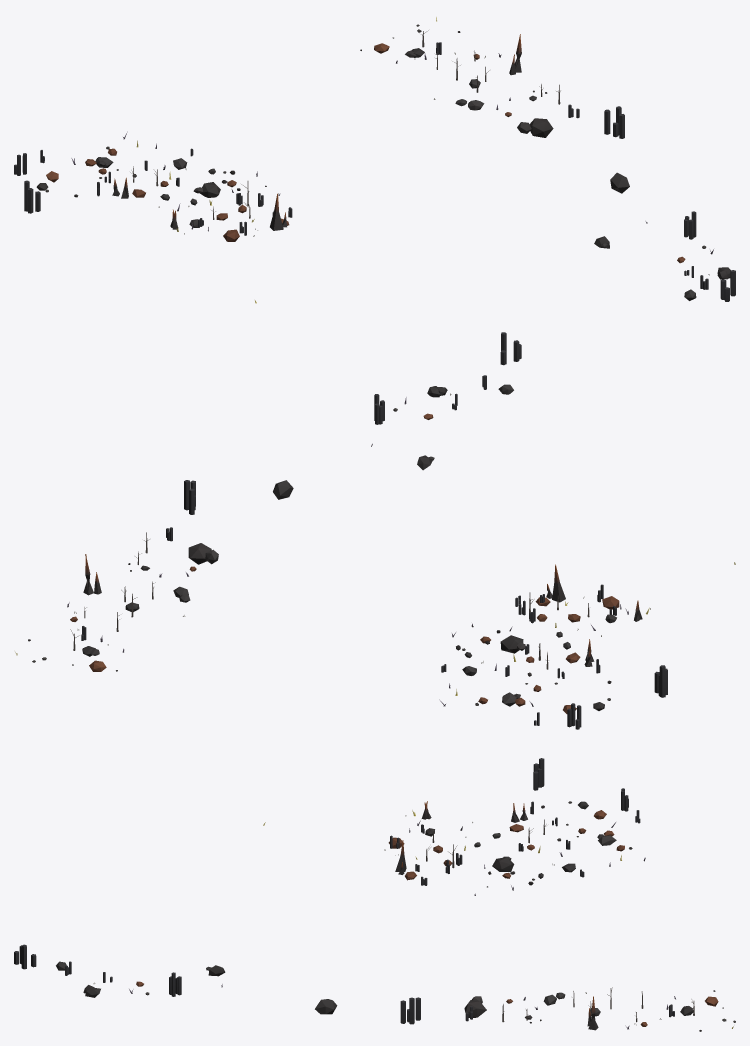
The model's file is ash_land_scatter_c20_30_lod1.glb.
3 renders of one model, top to bottom at view 1: azimuth 30°, elevation 25°; view 2: azimuth 150°, elevation 25°; view 3: azimuth 270°, elevation 25°, orthographic. The views are drawn at different scales.
Parts seen in each view (by area): view 1: ash_land_scatter_c20_30_lod1; view 2: ash_land_scatter_c20_30_lod1; view 3: ash_land_scatter_c20_30_lod1.
Part boxes in pixels (bbox=[...]): ash_land_scatter_c20_30_lod1: bbox=[14, 17, 735, 303]; ash_land_scatter_c20_30_lod1: bbox=[15, 332, 735, 729]; ash_land_scatter_c20_30_lod1: bbox=[14, 758, 735, 1031].
Size of the model in its own units: 200 by 20.2 by 255.
